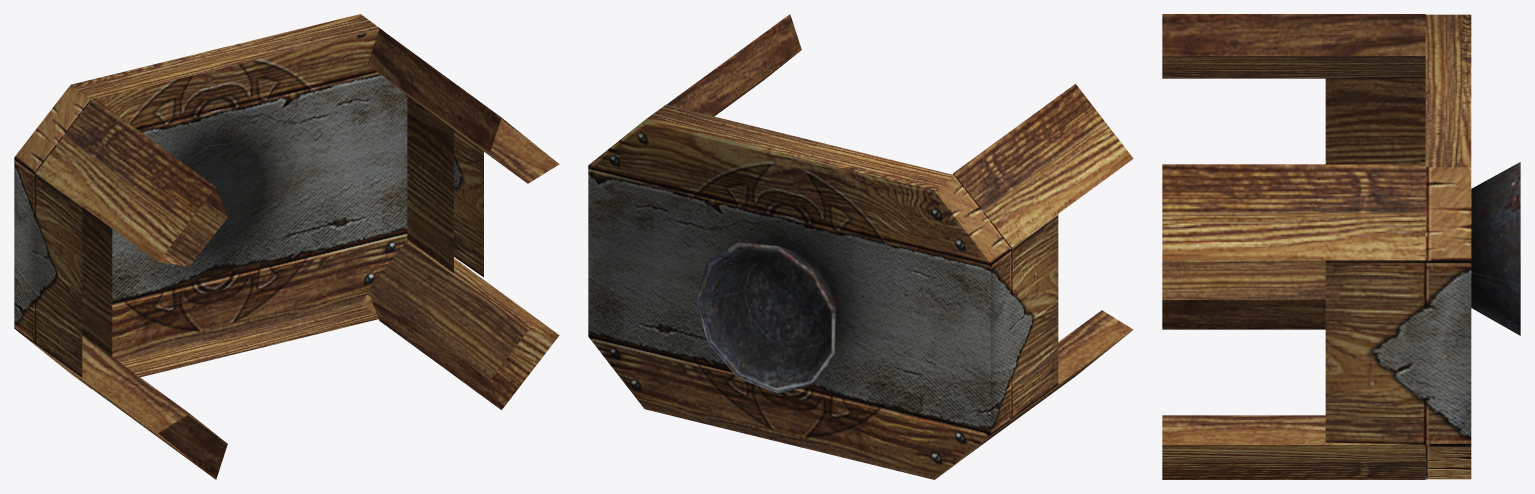
The model's file is altar-wooden.dae.
The picture shows the model from 3 angles, left to right: view 1: azimuth 30°, elevation 25°; view 2: azimuth 150°, elevation 25°; view 3: azimuth 270°, elevation 25°; orthographic projection. The views are drawn at different scales.
Visible parts, largest first — view 1: woodenaltar; view 2: woodenaltar; view 3: woodenaltar.
Part boxes in pixels (x1,y1,x2,y2): woodenaltar: [14, 14, 559, 479]; woodenaltar: [588, 14, 1133, 479]; woodenaltar: [1162, 14, 1520, 479].
Bounding box in the file's own units: 90.37 × 62.8 × 64.59.
2 materials, 2 textured.
